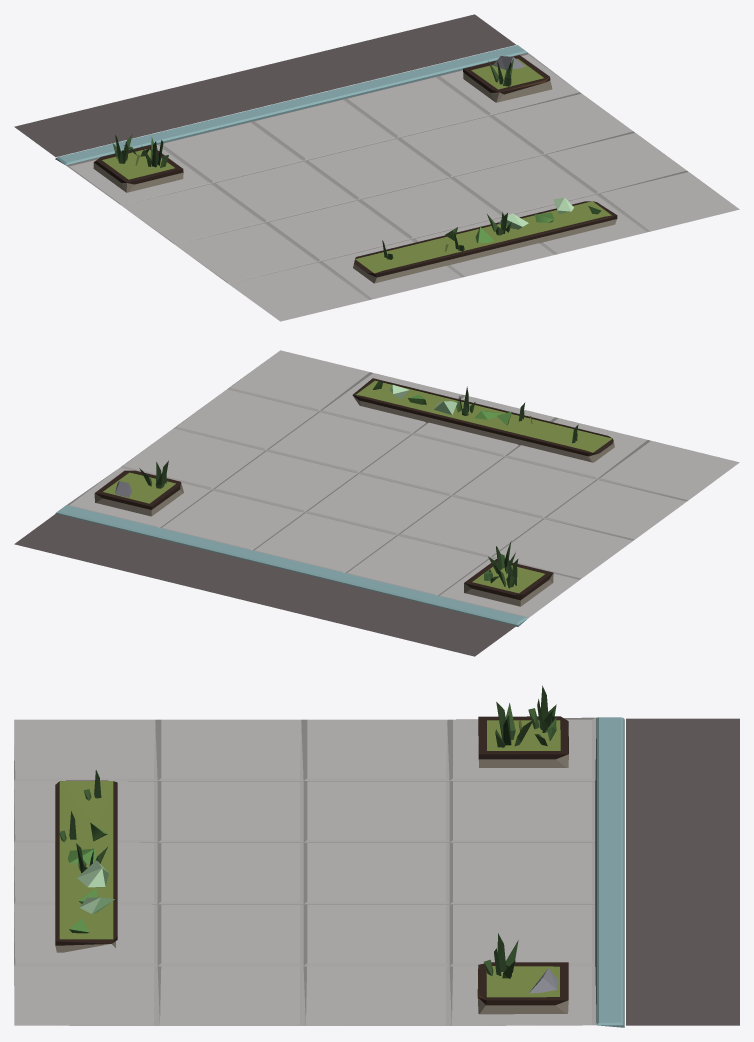
File: QmcK5oX5LDrLSKY1YjBd18cs5kBBk82FS2cTkQGwhnJjLH_lod2.fbx
3 views of the same model, one above another, from view 1: azimuth 30°, elevation 25°; view 2: azimuth 150°, elevation 25°; view 3: azimuth 270°, elevation 25° (orthographic). The views are drawn at different scales.
Parts seen in each view (by area): view 1: Entity_512; view 2: Entity_512; view 3: Entity_512.
Boxes of the visible parts, x1,y1,x2,y2 form: Entity_512: [14, 14, 739, 321]; Entity_512: [14, 350, 739, 656]; Entity_512: [14, 685, 739, 1027].
Bounding box in the file's own units: 16000 × 1380 × 15918.
1 material, 1 textured.
